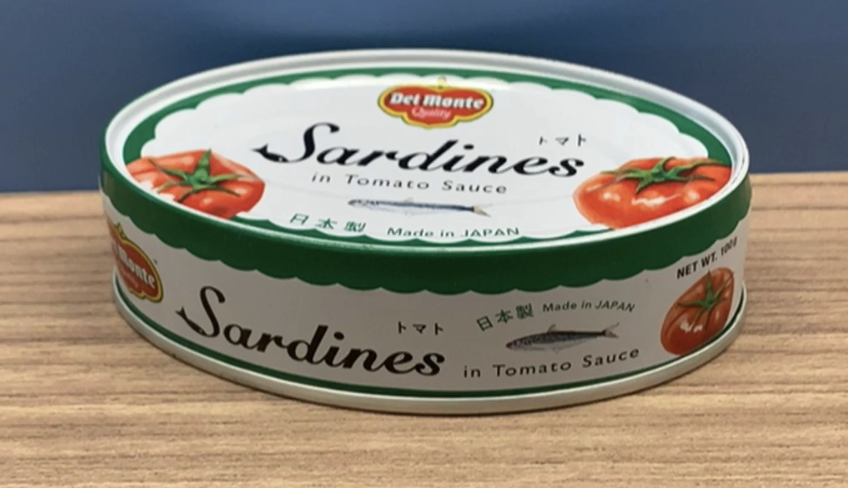sardines_100g-199g: (146, 82, 739, 372)
